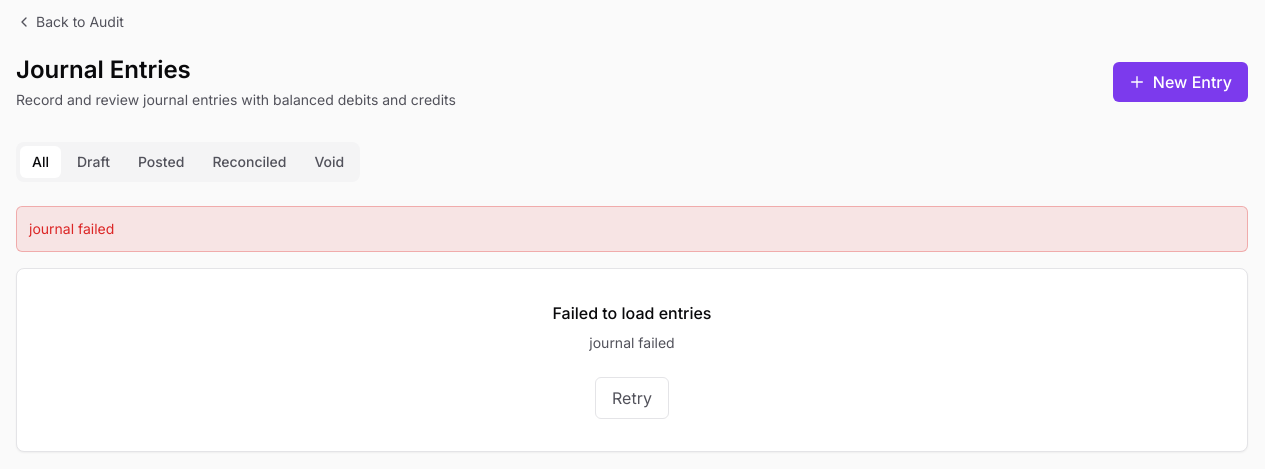
Test case: JournalPage › AC16.16.5 renders error state and retries loading entries
The image size is (1265, 469).
Expected: the text "Failed to load entries" is shown, 552,303 -> 711,323
Click the button with aria-label "Retry loading journal entries": (632, 398) 595,377 -> 669,419
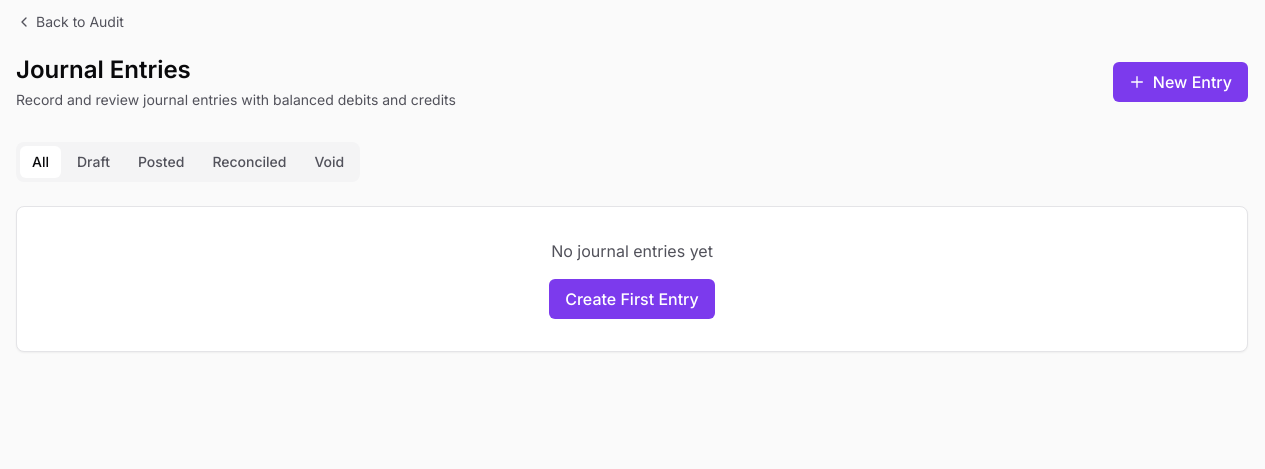
Expected: the text "No journal entries yet" is shown, 551,241 -> 713,261
